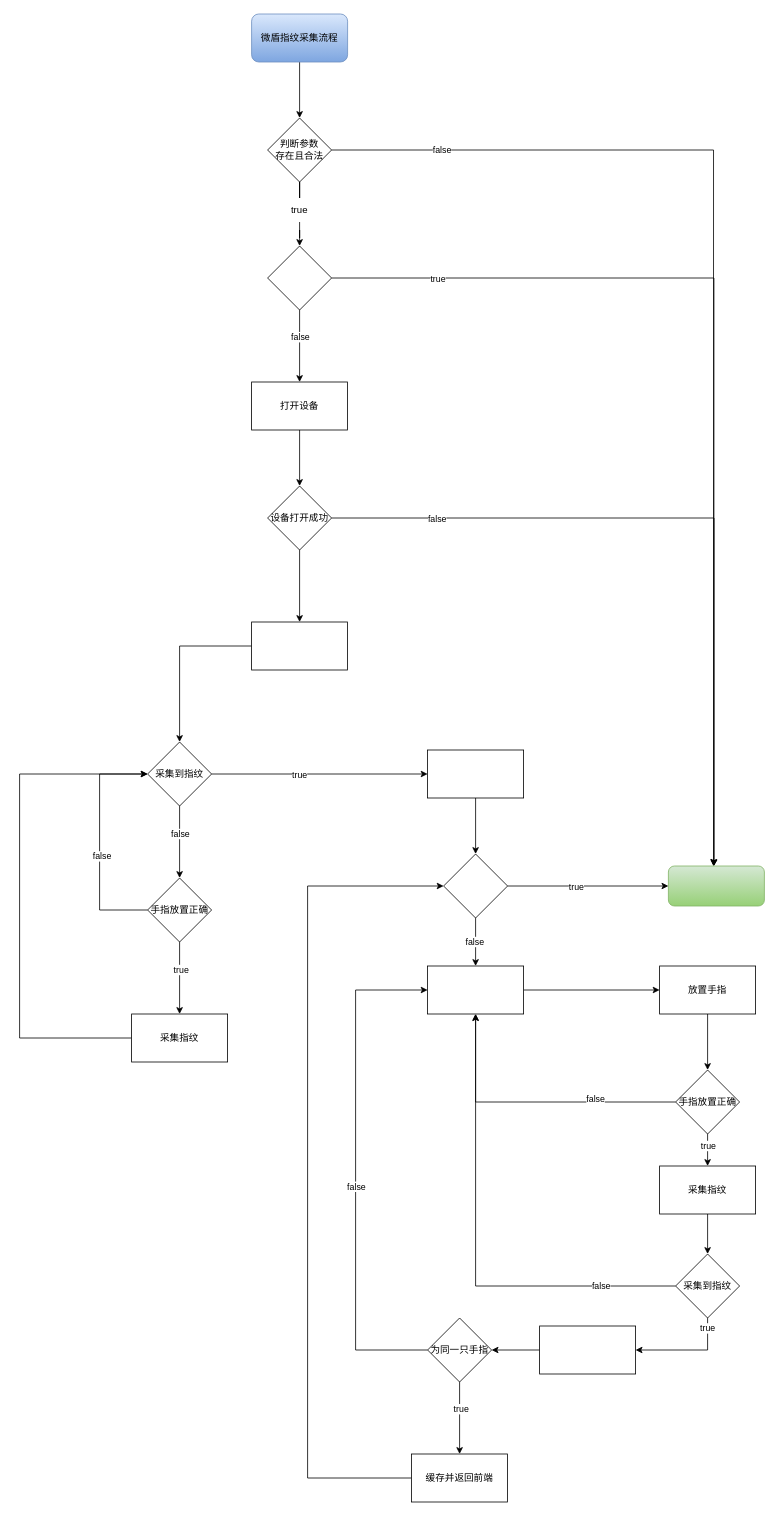
Image size: 778x1516. Some labels were removed from this diagram. The shapes that lost their labels are listed below. From the top down, each one's centre as x and y in pixels, then its label:
At [299,277]: "设备是否正在工作".
At [299,645]: "设备打开成功，准备放置手指".
At [475,773]: "缓存采集到的 指纹数据 并返回前端".
At [475,885]: "指纹采集 数量足够".
At [716,885]: "结束".
At [475,989]: "开始采集指纹".
At [587,1349]: "新指纹与缓存指纹进行对比".
